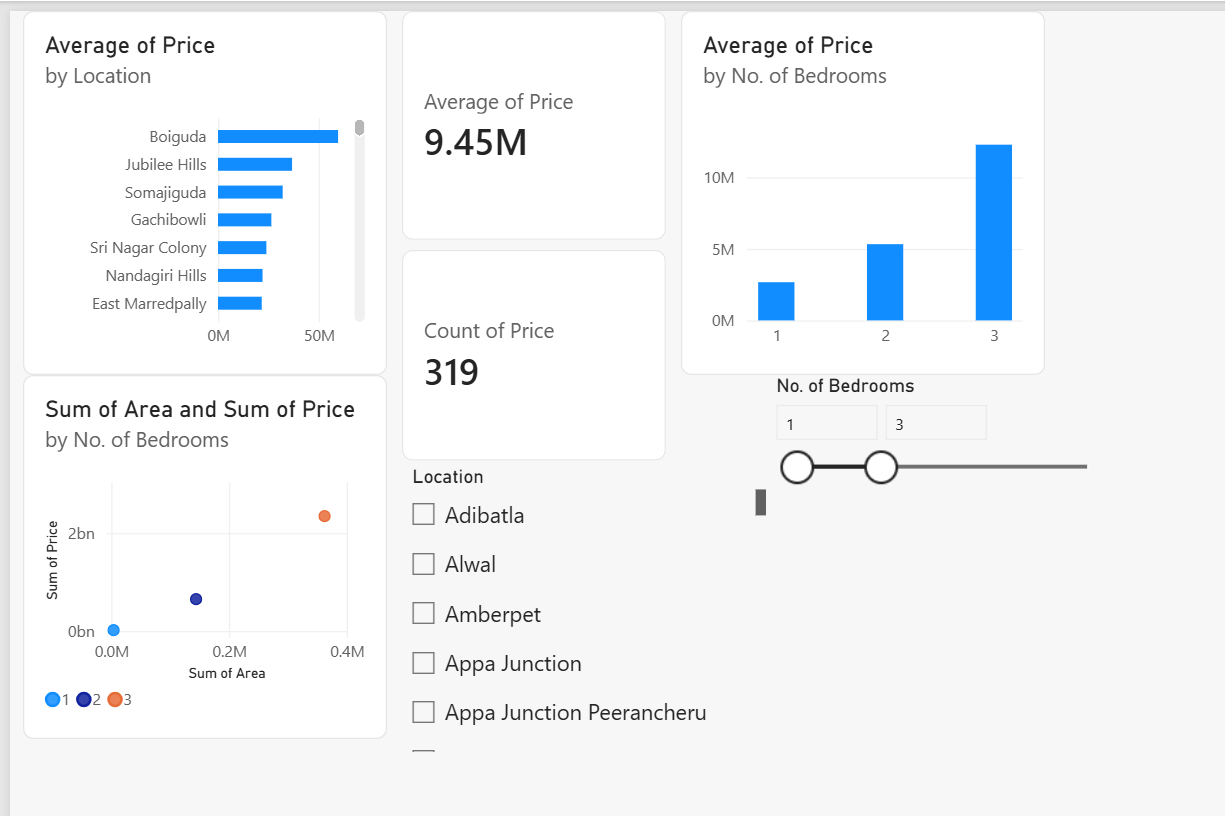

The page's visual inventory and layout, read from the dashboard file:
{"tool":"powerbi","page":{"name":"Page 1","canvas":[1920,1080],"ordinal":0},"visuals":[{"type":"barChart","fields":{"Category":["Hyderabad.Location"],"Y":["Avg(Hyderabad.Price)"]},"box":[10,0,280,280],"z":0},{"type":"scatterChart","fields":{"Series":["Hyderabad.No. of Bedrooms"],"X":["Sum(Hyderabad.Area)"],"Y":["Sum(Hyderabad.Price)"]},"box":[10,280,280,280],"z":2},{"type":"columnChart","fields":{"Category":["Hyderabad.No. of Bedrooms"],"Y":["Avg(Hyderabad.Price)"]},"box":[516.4,0,280,280],"z":3},{"type":"cardVisual","fields":{"Data":["Avg(Hyderabad.Price)"]},"box":[301.8,0,203.6,176.4],"z":4},{"type":"cardVisual","fields":{"Data":["CountNonNull(Hyderabad.Price)"]},"box":[301.8,183.6,203.6,162.7],"z":5},{"type":"slicer","fields":{"Values":["Hyderabad.Location"]},"box":[301.8,350,280,220],"z":6},{"type":"slicer","fields":{"Values":["Hyderabad.No. of Bedrooms"]},"box":[581.8,280,265.5,221.8],"z":7}]}

Visuals, with their boxes on the page's 1920x1080 design canvas (x1, y1, x2, y2). These are canvas units, not pixel positions in the 1225x816 screenshot, which may show the page scaled, cropped or inside an application window:
barChart - Hyderabad.Location x Avg(Hyderabad.Price): crop(10, 0, 290, 280)
scatterChart - Hyderabad.No. of Bedrooms x Sum(Hyderabad.Area): crop(10, 280, 290, 560)
columnChart - Hyderabad.No. of Bedrooms x Avg(Hyderabad.Price): crop(516, 0, 796, 280)
cardVisual - Avg(Hyderabad.Price): crop(302, 0, 505, 176)
cardVisual - CountNonNull(Hyderabad.Price): crop(302, 184, 505, 346)
slicer - Hyderabad.Location: crop(302, 350, 582, 570)
slicer - Hyderabad.No. of Bedrooms: crop(582, 280, 847, 502)
